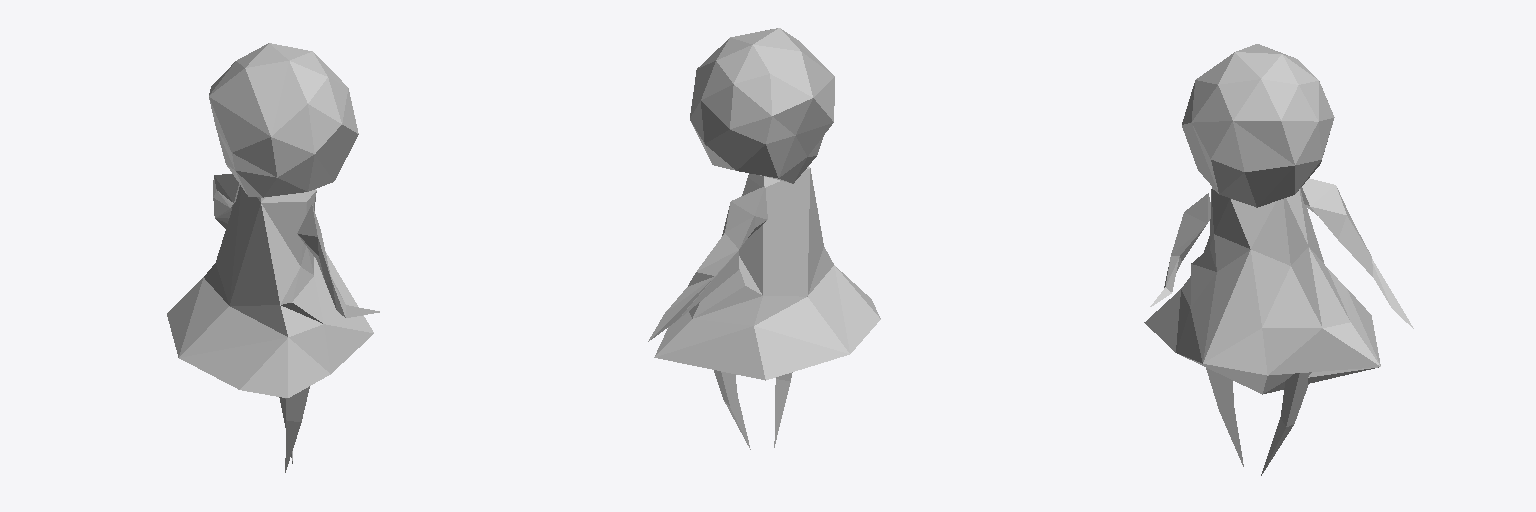
The model's file is Chara_BaseBody_Girl.obj.
3 renders of one model, left to right at view 1: azimuth 30°, elevation 25°; view 2: azimuth 150°, elevation 25°; view 3: azimuth 270°, elevation 25°, orthographic.
Visible parts, largest first — view 1: polySurface35; view 2: polySurface35; view 3: polySurface35.
Part boxes in pixels (left/top/right/bottom): polySurface35: left=167, top=43, right=379, bottom=472; polySurface35: left=648, top=28, right=880, bottom=449; polySurface35: left=1144, top=44, right=1413, bottom=475.
Size of the model in its own units: 17.69 by 44.26 by 26.03.